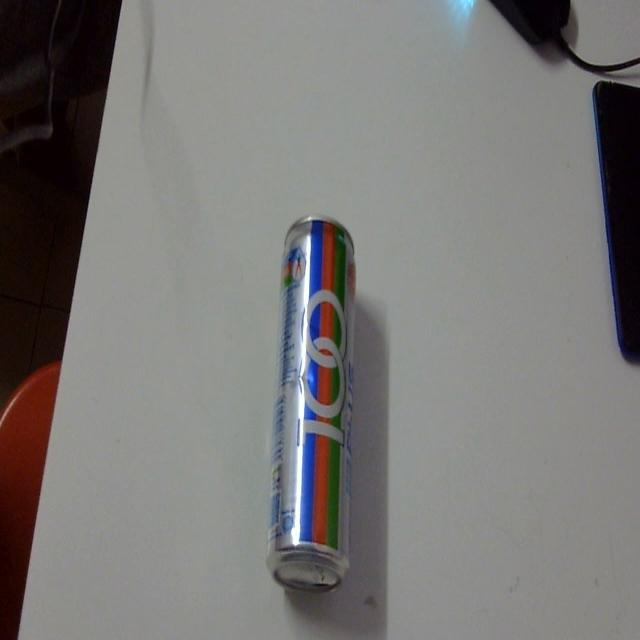metal_laydown_90rotation: (260, 208, 366, 604)
